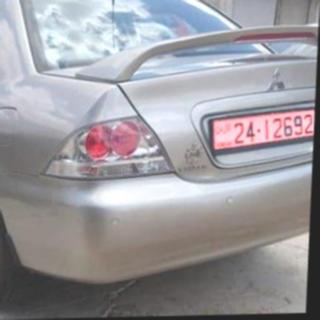License_Plate: (205, 105, 315, 158)
